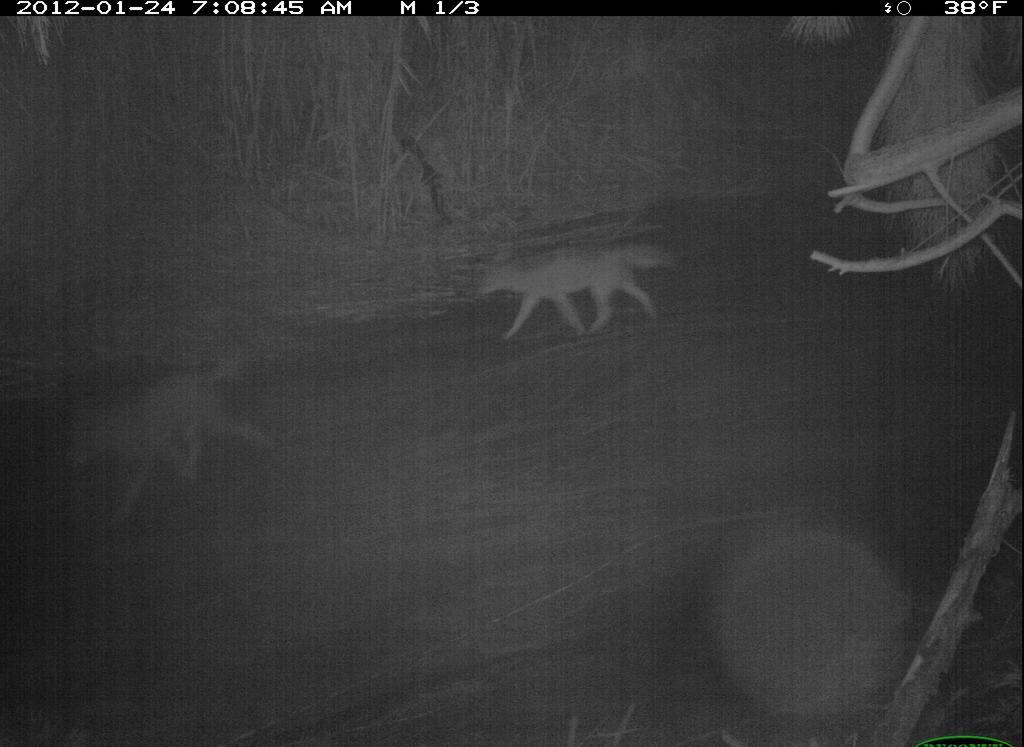coyote: (56, 346, 274, 534), (472, 233, 683, 353)
